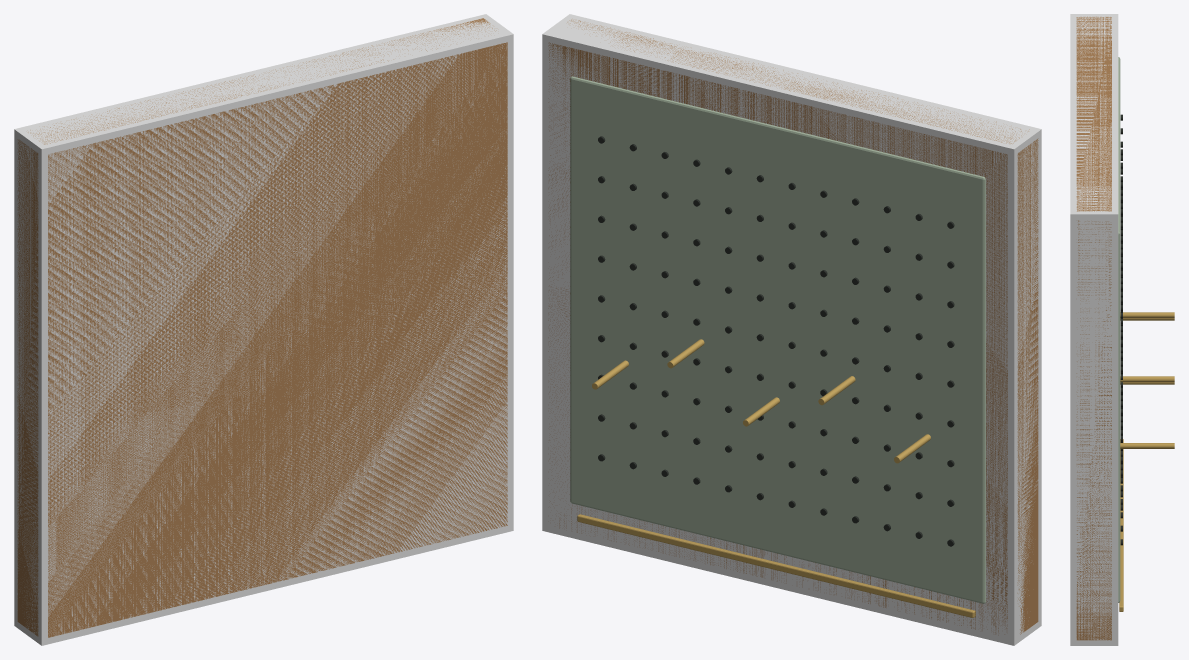
File: luxury.glb
The picture shows the model from 3 angles, left to right: view 1: azimuth 30°, elevation 25°; view 2: azimuth 150°, elevation 25°; view 3: azimuth 270°, elevation 25°; orthographic projection. The views are drawn at different scales.
Parts seen in each view (by area): view 1: Pegboard_Frame.003, COL_PEGBOARD_WALLS_LUXURY; view 2: Pegboard_Field.003, COL_PEGBOARD_WALLS_LUXURY, Pegboard_Frame.003, Pegboard_BrassToeKick; view 3: COL_PEGBOARD_WALLS_LUXURY, Pegboard_Frame.003, Pegboard_Field.003, Pegboard_BrassToeKick, PegHook_4.001, PegHook_2.003, PegHook_5.
Part boxes in pixels (left/top/right/bottom): Pegboard_Frame.003: left=17, top=18, right=507, bottom=637; COL_PEGBOARD_WALLS_LUXURY: left=14, top=14, right=513, bottom=645; Pegboard_Field.003: left=570, top=76, right=985, bottom=603; COL_PEGBOARD_WALLS_LUXURY: left=542, top=14, right=1041, bottom=645; Pegboard_Frame.003: left=548, top=19, right=1038, bottom=635; Pegboard_BrassToeKick: left=577, top=514, right=975, bottom=617; COL_PEGBOARD_WALLS_LUXURY: left=1070, top=14, right=1118, bottom=645; Pegboard_Frame.003: left=1076, top=16, right=1111, bottom=640; Pegboard_Field.003: left=1118, top=57, right=1120, bottom=602; Pegboard_BrassToeKick: left=1119, top=439, right=1123, bottom=611; PegHook_4.001: left=1120, top=376, right=1174, bottom=382; PegHook_2.003: left=1120, top=312, right=1174, bottom=318; PegHook_5: left=1120, top=443, right=1174, bottom=448.
Size of the model in its own units: 1.89 by 1.9 by 0.4166.
